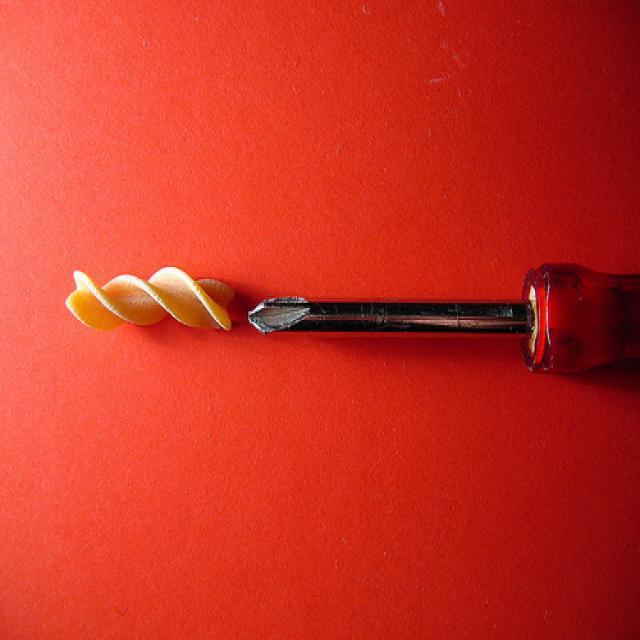screwdriver: (245, 247, 640, 390)
